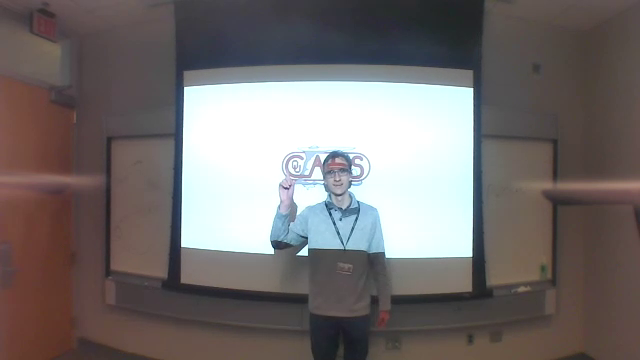up: (273, 169, 304, 201)
